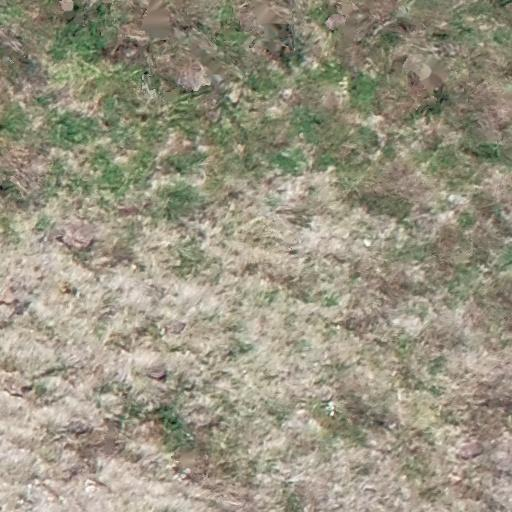stone: (168, 60, 206, 90), (130, 349, 166, 380), (1, 368, 34, 400), (182, 397, 213, 431), (454, 440, 492, 464), (65, 226, 92, 252), (162, 130, 188, 153), (220, 82, 240, 106), (201, 214, 214, 246), (119, 202, 148, 215), (264, 168, 282, 182), (2, 289, 14, 306), (360, 237, 373, 252), (284, 84, 296, 100)
